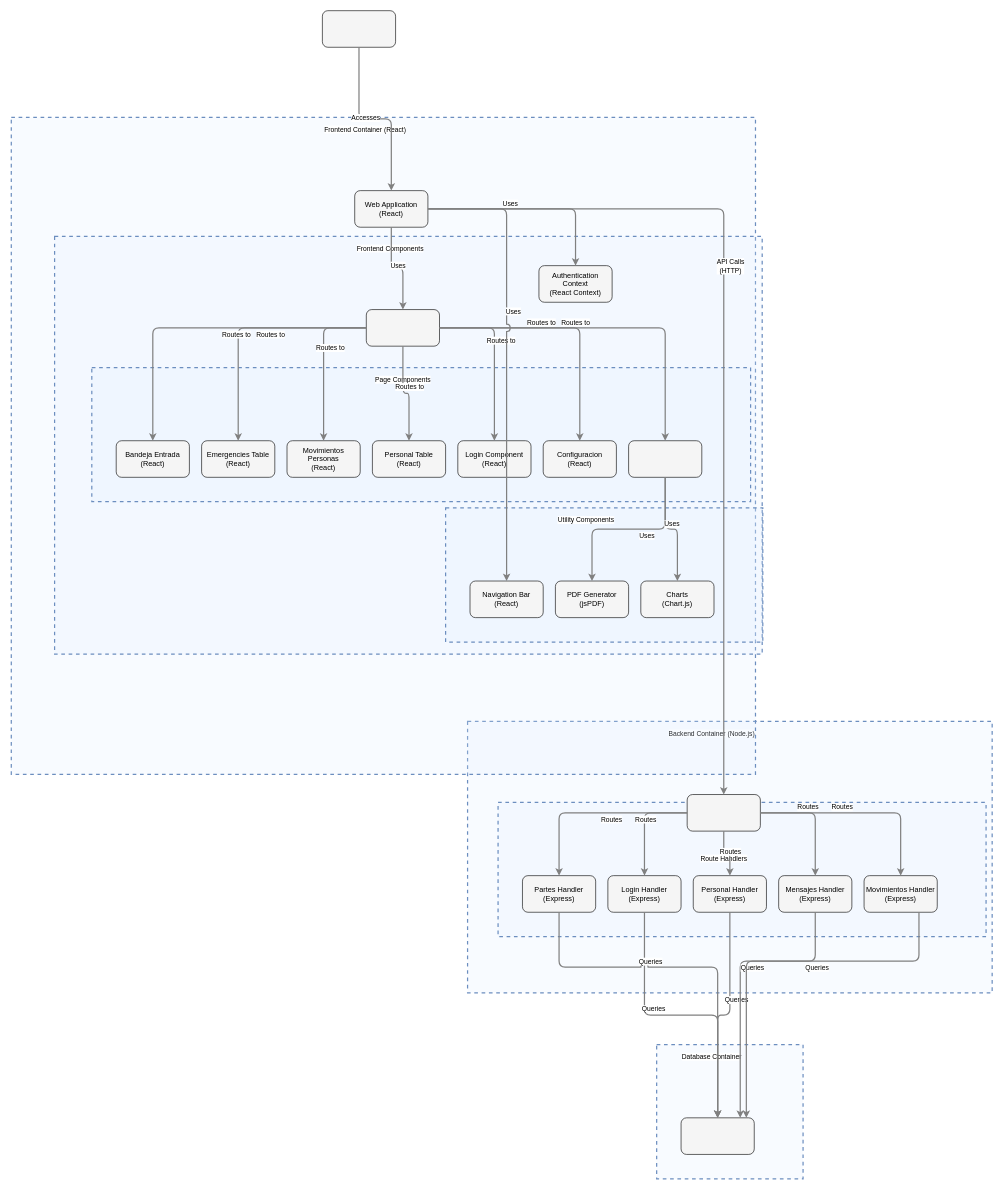
Image size: 1003x1190. Some labels were removed from this diagram. The shapes that lost their labels are listed below. From the top down, each one's box as (x1, y1, x2, y2) in pixels, then its label:
(322, 10, 396, 47): User
(366, 309, 440, 346): Router (React Router)
(628, 440, 702, 477): Reports Page (React)
(687, 794, 760, 831): API Server (Express.js)
(680, 1117, 754, 1154): MySQL Database (MySQL 2
